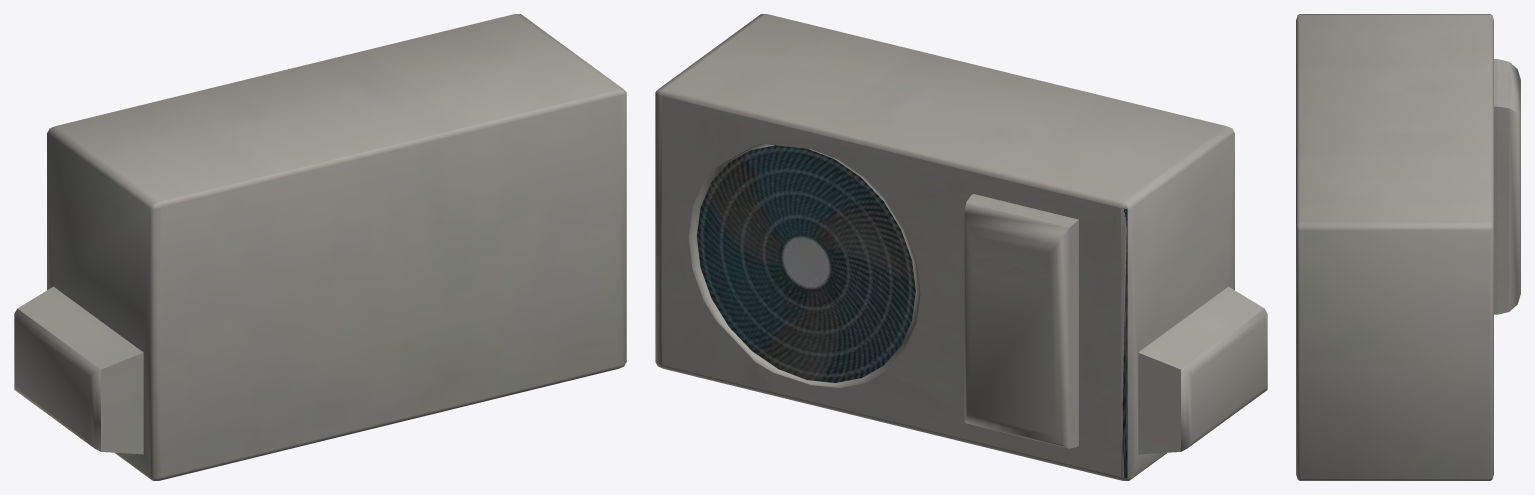
Rendered from aire_ext.glb.
The picture shows the model from 3 angles, left to right: view 1: azimuth 30°, elevation 25°; view 2: azimuth 150°, elevation 25°; view 3: azimuth 270°, elevation 25°; orthographic projection. The views are drawn at different scales.
Visible parts, largest first — view 1: Cube.004_0; view 2: Cube.004_0; view 3: Cube.004_0.
Part boxes in pixels (x1,y1,x2,y2): Cube.004_0: (14,14,626,480); Cube.004_0: (655,14,1267,480); Cube.004_0: (1296,14,1520,480).
Bounding box in the file's own units: 1.59 × 0.8126 × 0.6422.
Materials: 1 (1 with a texture image).
